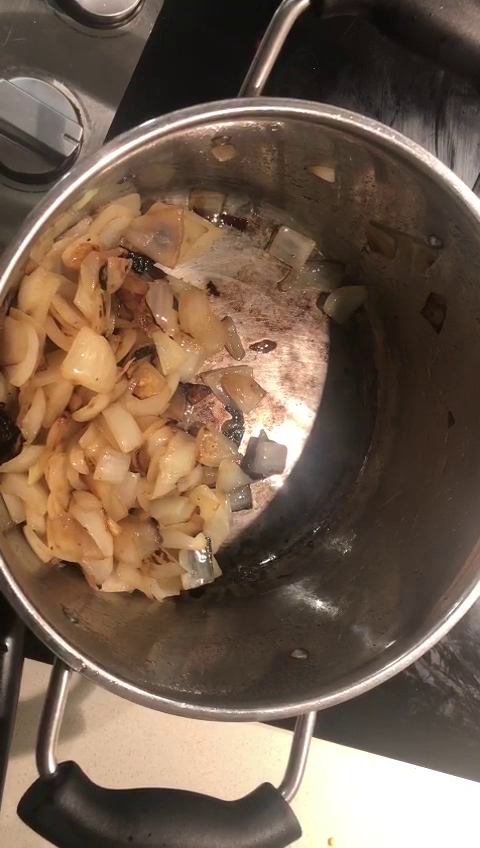Cooked: (50, 226, 226, 579)
